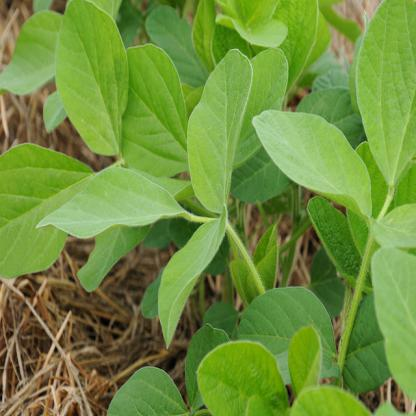soybean leaf: (252, 110, 373, 219), (34, 166, 190, 246), (143, 207, 226, 349), (354, 1, 415, 187), (187, 48, 252, 217), (370, 244, 415, 383)
